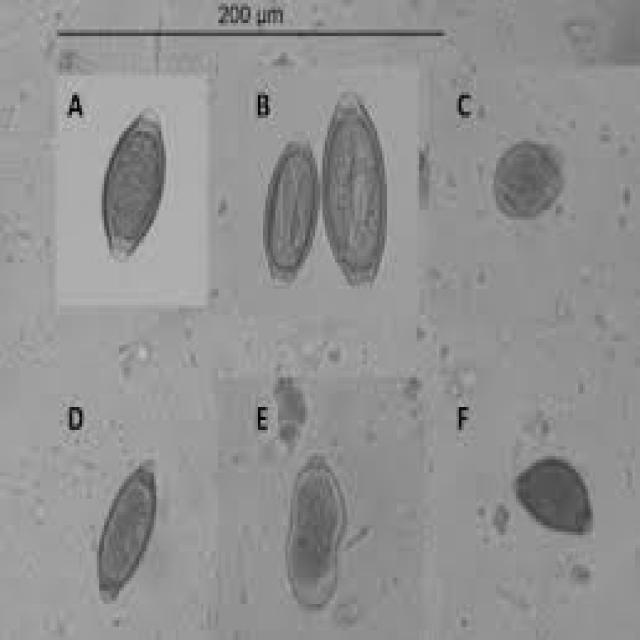Trichuris Trichiura: (93, 102, 175, 272), (322, 87, 387, 294), (254, 125, 324, 289), (93, 451, 165, 609)
